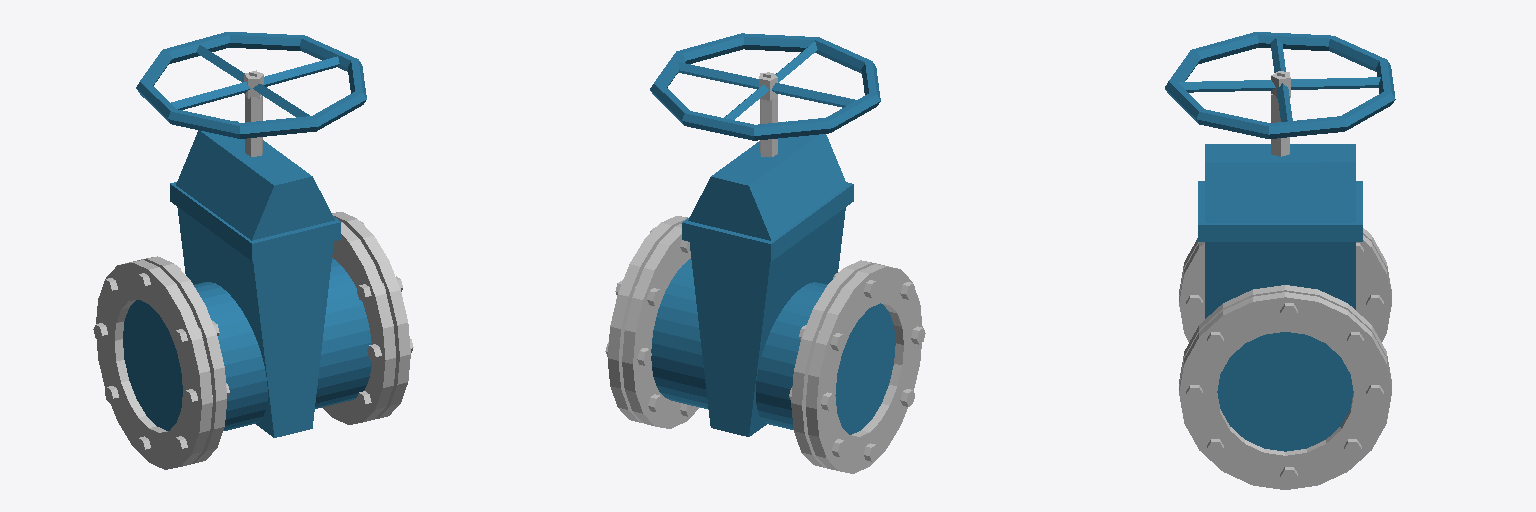
Rendered from gate_valve.obj.
3 renders of one model, left to right at view 1: azimuth 30°, elevation 25°; view 2: azimuth 150°, elevation 25°; view 3: azimuth 270°, elevation 25°, orthographic.
Parts seen in each view (by area): view 1: __, ___, ___.2, __.2, ___.1, __.1, ___1; view 2: __, ___, ___.2, __.2, ___.1, __.1, ___1; view 3: __.2, __, ___.2, ___, ___.1, ___2, __.1.
Boxes of the visible parts, x1,y1,x2,y2 form: __: [96, 32, 395, 469]; ___: [177, 45, 333, 437]; ___.2: [176, 121, 334, 240]; __.2: [133, 93, 410, 463]; ___.1: [170, 56, 340, 260]; __.1: [96, 70, 413, 454]; ___1: [93, 275, 375, 454]; __: [622, 33, 922, 473]; ___: [690, 42, 845, 436]; ___.2: [688, 121, 847, 240]; __.2: [608, 98, 884, 467]; ___.1: [678, 62, 855, 261]; __.1: [605, 72, 922, 461]; ___1: [643, 242, 925, 460]; __.2: [1179, 94, 1391, 489]; __: [1165, 32, 1395, 451]; ___.2: [1205, 144, 1355, 222]; ___: [1178, 77, 1380, 318]; ___.1: [1198, 37, 1362, 241]; ___2: [1186, 246, 1383, 483]; __.1: [1186, 71, 1383, 476].
Bounding box in the file's own units: 146 × 230 × 132.